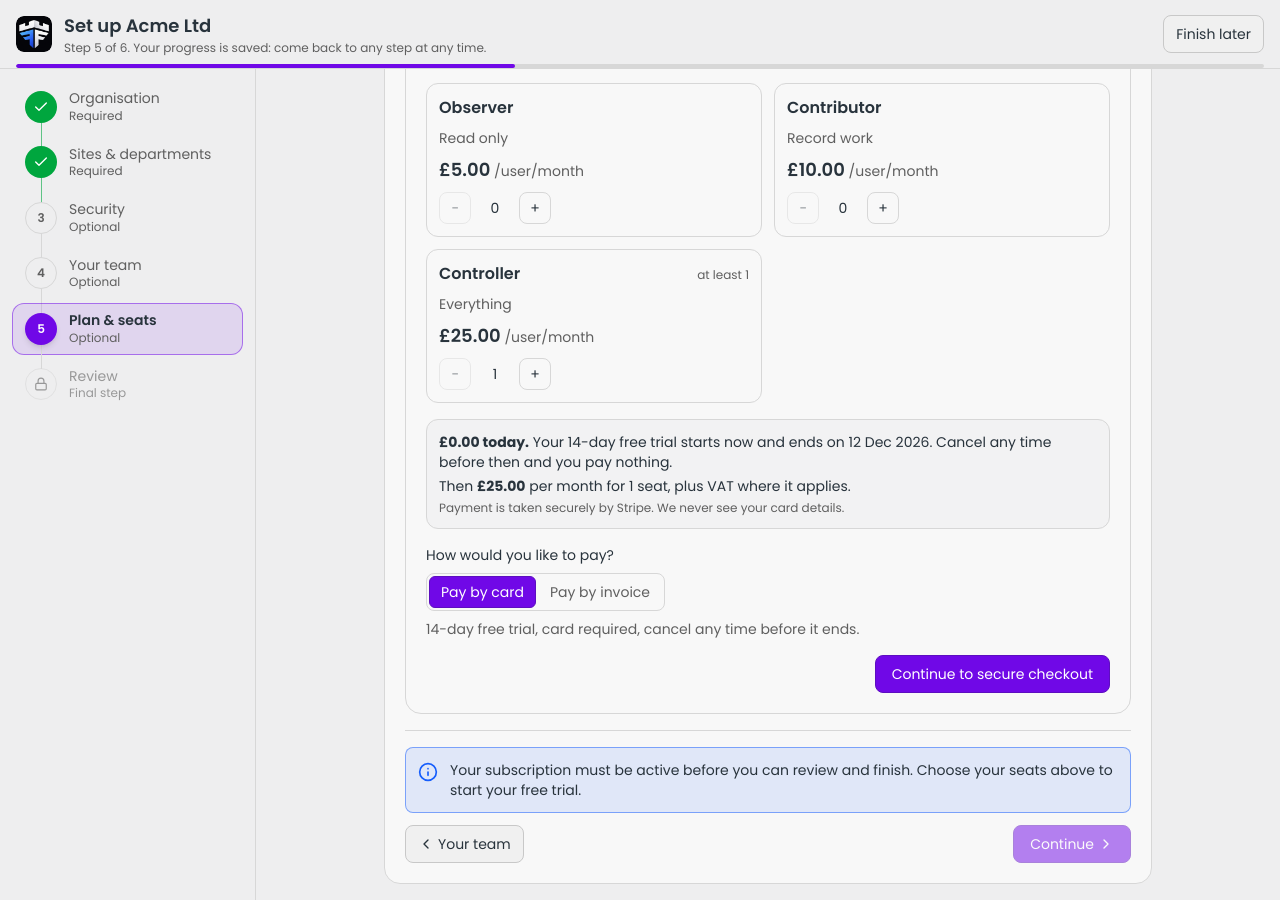
Test: the set-up wizard › buying the plan › offers to pay by invoice instead: no trial text, the company form, and Start subscription instead of Stripe's checkout
(page scrolled)
Expected: the button "Continue to secure checkout" is shown, [875,655,1110,693]
What coordinates should you click on to do the following:
click the radio button labelled "Pay by invoice"
I would click on:
 (600, 592)
Its box is [538,576,662,608].
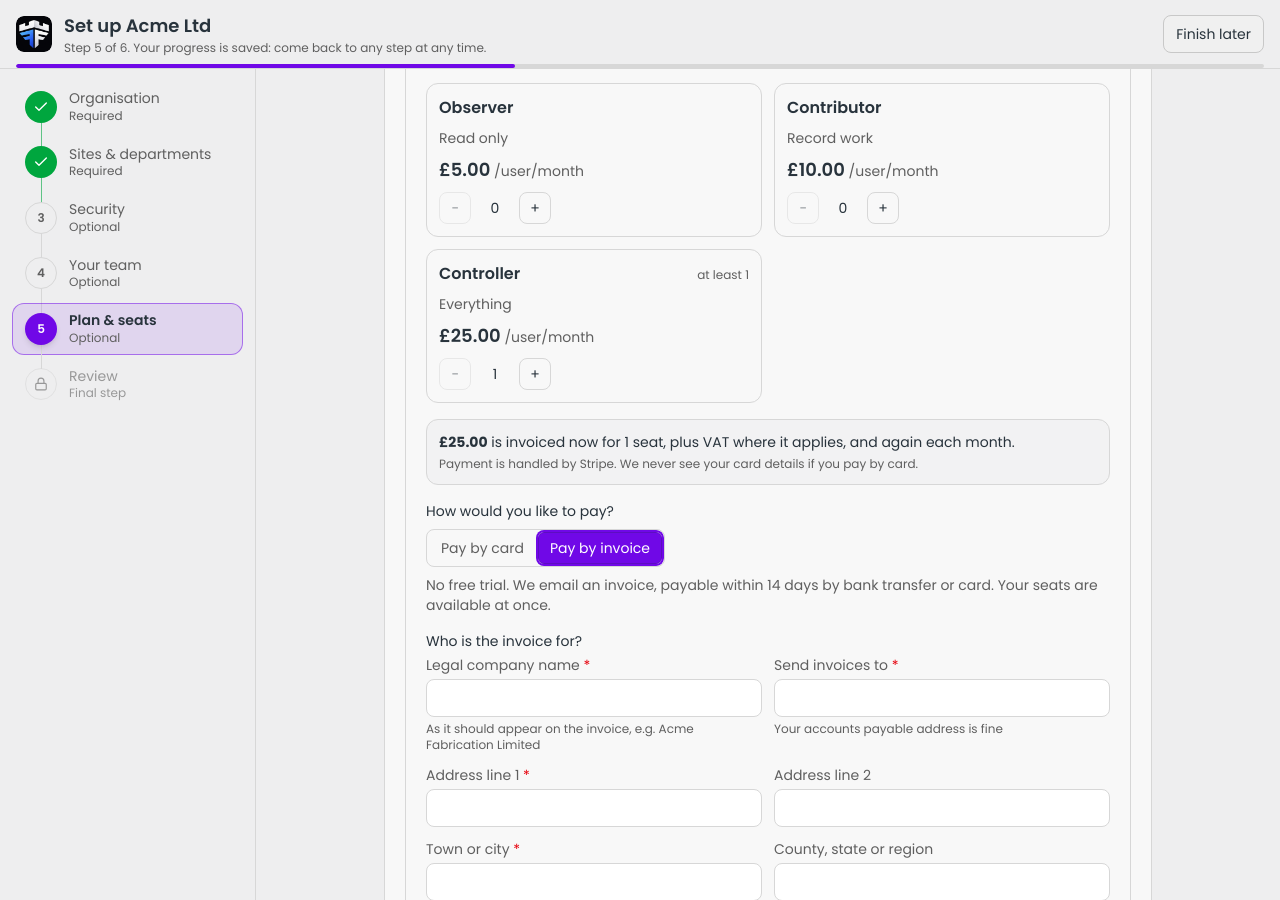
Result: the button "Continue to secure checkout" is gone
Result: the text "free trial starts now" is gone
Result: the text "is invoiced now for" is shown at [488,432,624,452]
What coordinates should you click on to do the following:
click the radio button labelled "Pay by card"
I would click on:
 (482, 548)
Its box is [429,532,536,564].
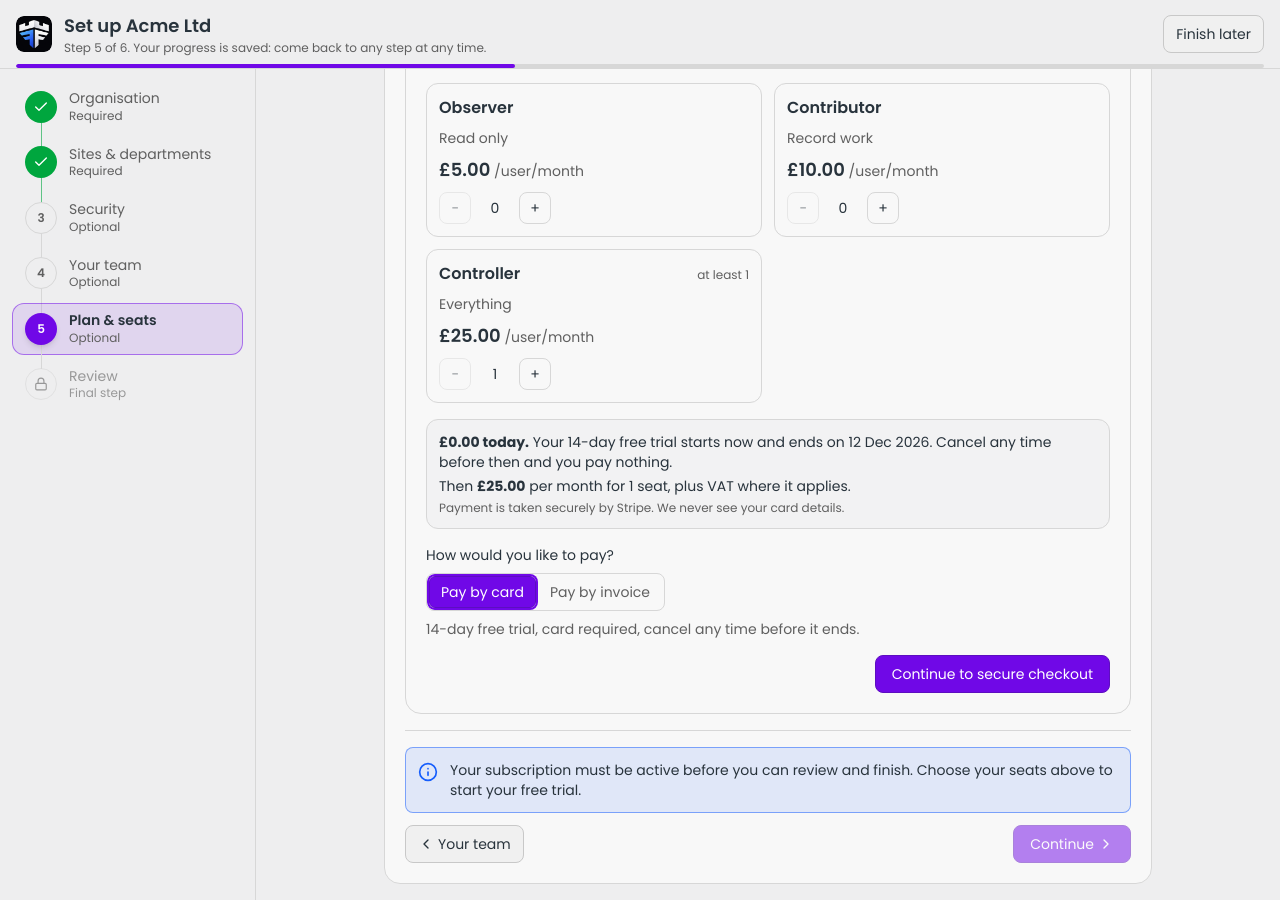
Result: the button "Continue to secure checkout" is shown at [875,655,1110,693]
